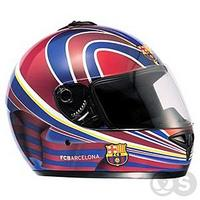helmet: (5, 27, 199, 183)
